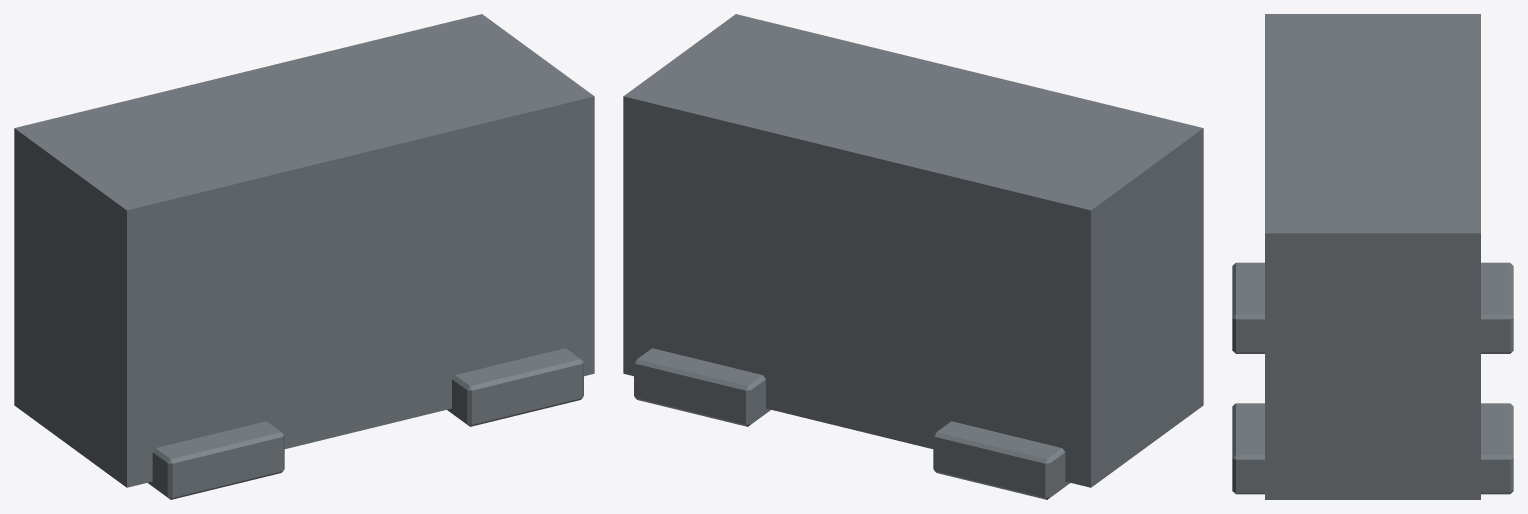
The model's file is ConcreteBarrierShort.fbx.
3 views of the same model, side by side, from view 1: azimuth 30°, elevation 25°; view 2: azimuth 150°, elevation 25°; view 3: azimuth 270°, elevation 25° (orthographic). The views are drawn at different scales.
Parts seen in each view (by area): view 1: ConcreteBarrierShort; view 2: ConcreteBarrierShort; view 3: ConcreteBarrierShort.
Boxes of the visible parts, box(x1,y1,x2,y2) form: ConcreteBarrierShort: box(14, 14, 594, 499); ConcreteBarrierShort: box(623, 14, 1203, 499); ConcreteBarrierShort: box(1232, 14, 1513, 499).
Size of the model in its own units: 120 by 70 by 65.
Materials: 1 (1 with a texture image).
